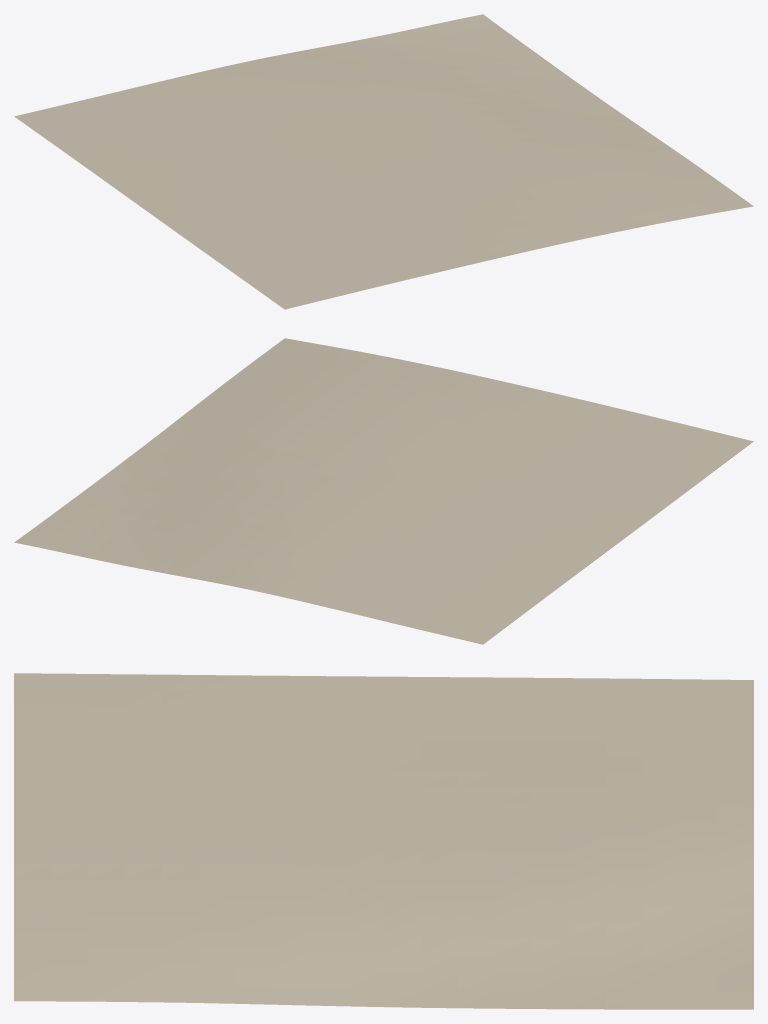
The model's file is bolak_-21_9.glb.
The picture shows the model from 3 angles, top to bottom: view 1: azimuth 30°, elevation 25°; view 2: azimuth 150°, elevation 25°; view 3: azimuth 270°, elevation 25°; orthographic projection. The views are drawn at different scales.
Visible parts, largest first — view 1: Yer_Tuproq-col; view 2: Yer_Tuproq-col; view 3: Yer_Tuproq-col.
Part boxes in pixels (box(x1,y1,x2,y2)): Yer_Tuproq-col: box(14, 14, 753, 309); Yer_Tuproq-col: box(14, 338, 753, 644); Yer_Tuproq-col: box(14, 673, 753, 1009).
Bounding box in the file's own units: 400 × 14.29 × 400.
